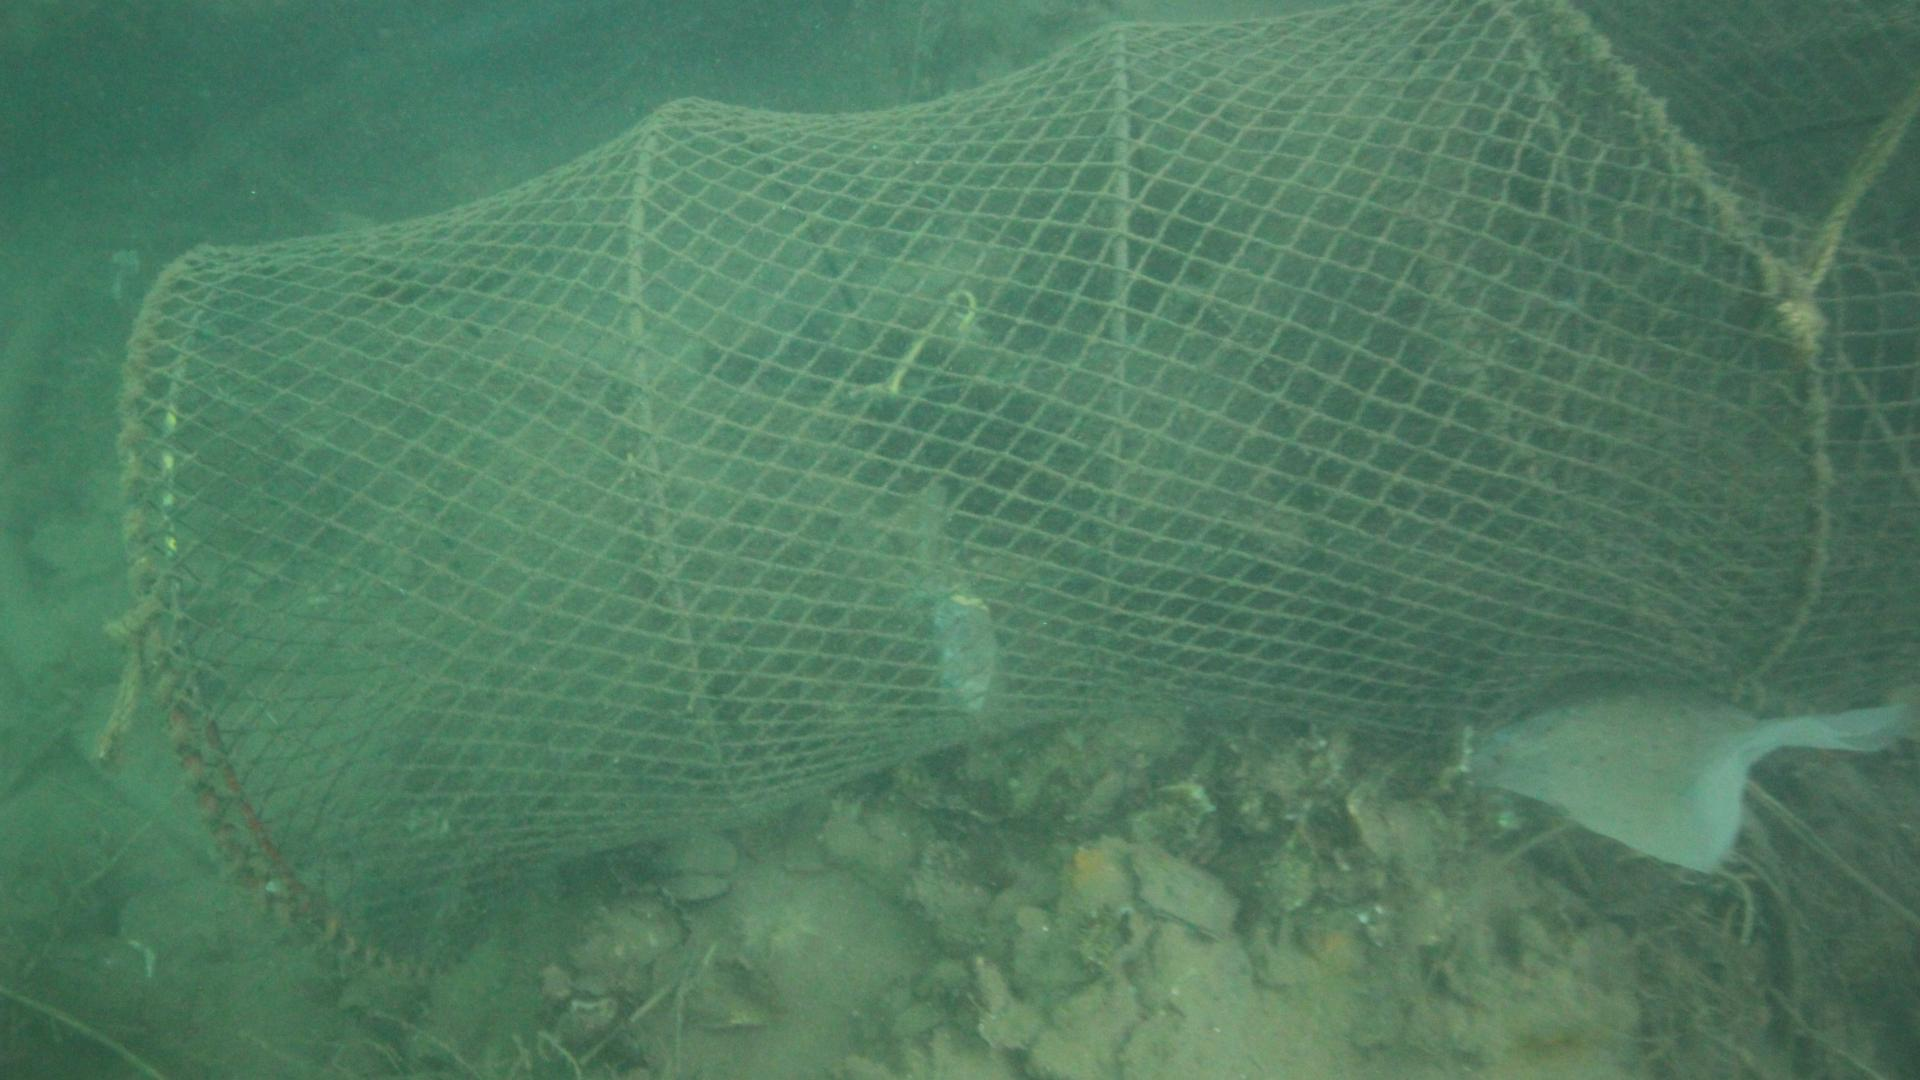spring fish trap: (115, 0, 1920, 990)
